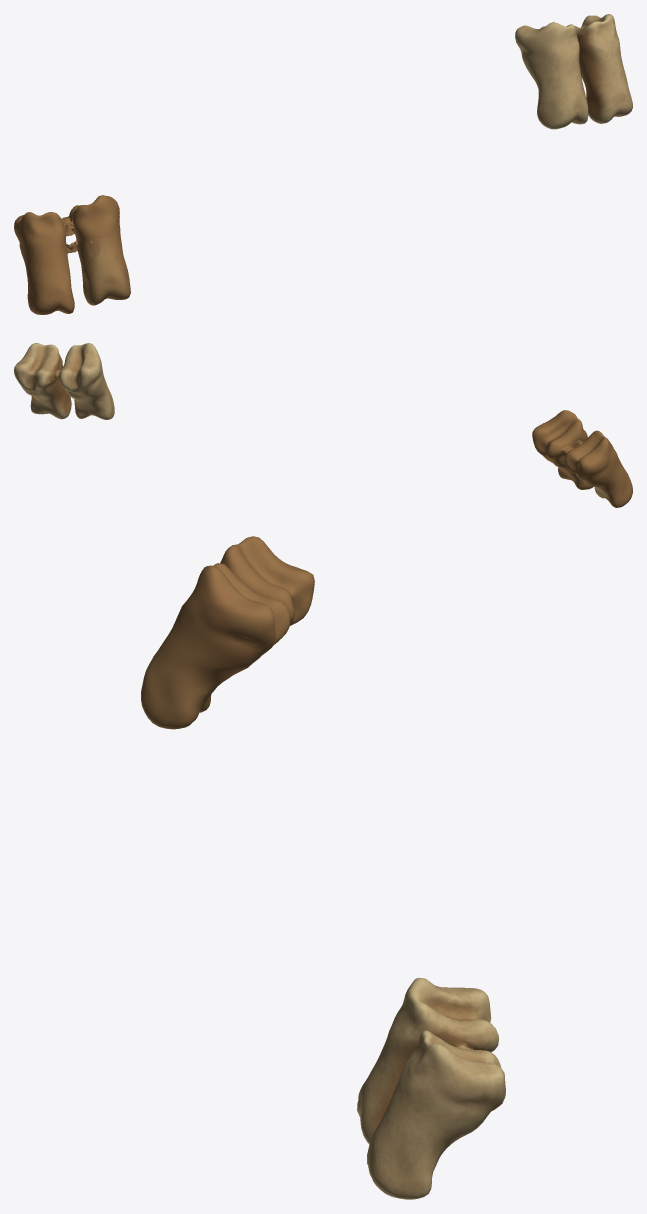
Rendered from Proximal Phalanges.glb.
The picture shows the model from 3 angles, top to bottom: view 1: azimuth 30°, elevation 25°; view 2: azimuth 150°, elevation 25°; view 3: azimuth 270°, elevation 25°; orthographic projection. The views are drawn at different scales.
Parts seen in each view (by area): view 1: ZBrush_defualt_group.005; view 2: ZBrush_defualt_group.005; view 3: ZBrush_defualt_group.005.
Part boxes in pixels (x1=…): ZBrush_defualt_group.005: x1=14, y1=14, x2=632, y2=314; ZBrush_defualt_group.005: x1=14, y1=343, x2=632, y2=507; ZBrush_defualt_group.005: x1=141, y1=536, x2=505, y2=1199.
Bounding box in the file's own units: 344 × 51.91 × 100.
1 material, 1 textured.
